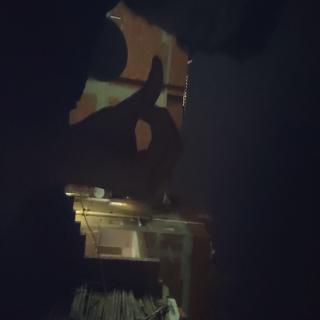WAW: (39, 177, 156, 320)
